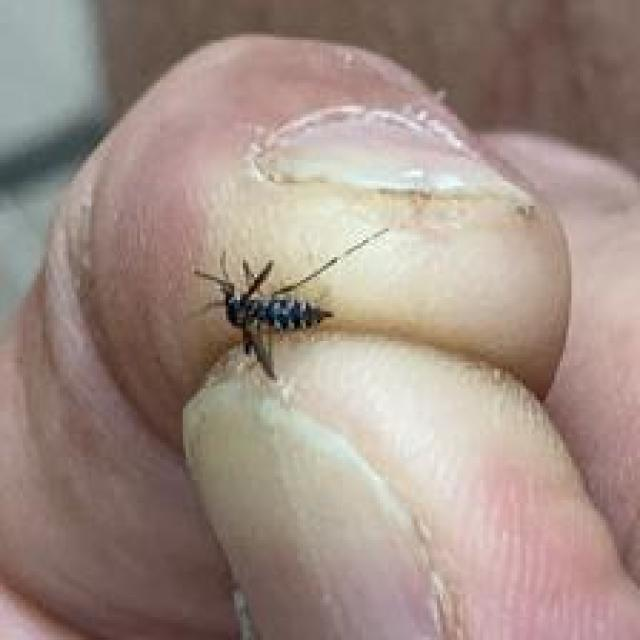Aedes albopictus: (190, 225, 390, 382)
